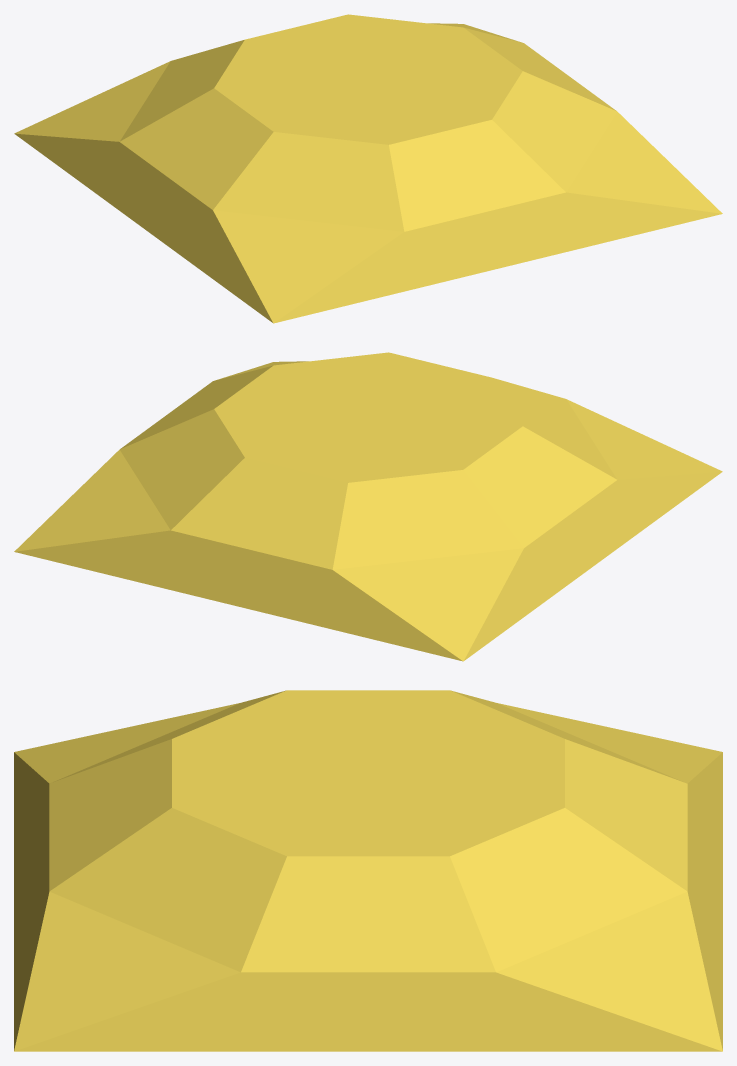
File: gem_topaz.glb
3 views of the same model, one above another, from view 1: azimuth 30°, elevation 25°; view 2: azimuth 150°, elevation 25°; view 3: azimuth 270°, elevation 25° (orthographic). The views are drawn at different scales.
Parts seen in each view (by area): view 1: PrincessCutGem; view 2: PrincessCutGem; view 3: PrincessCutGem.
Part boxes in pixels (<box>): PrincessCutGem: <box>14,14,722,323</box>; PrincessCutGem: <box>14,352,722,661</box>; PrincessCutGem: <box>14,690,722,1051</box>.
Size of the model in its own units: 2 by 0.8 by 2.
